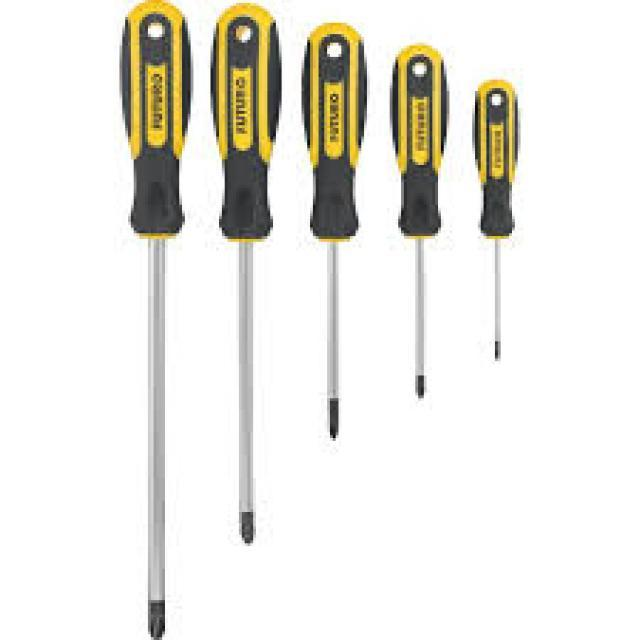screwdriver: (118, 0, 195, 640), (212, 0, 286, 549), (302, 17, 372, 447), (386, 44, 449, 403), (472, 75, 521, 374)
